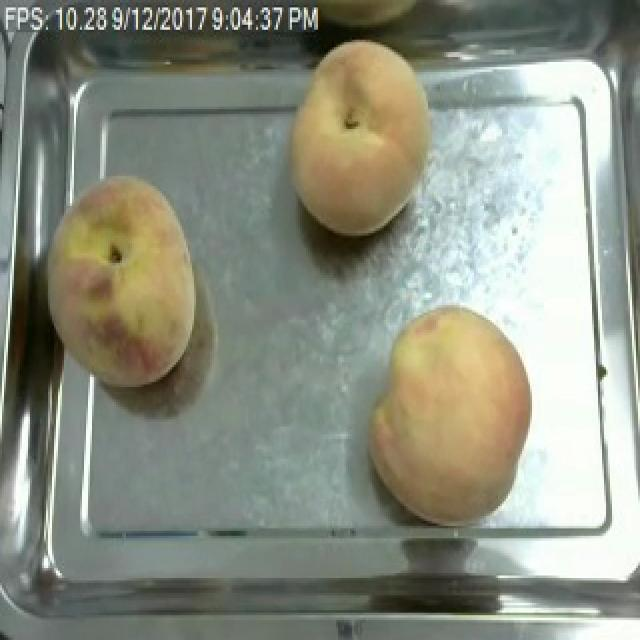Fruit: (364, 298, 544, 531), (34, 166, 206, 400), (278, 32, 444, 246)
